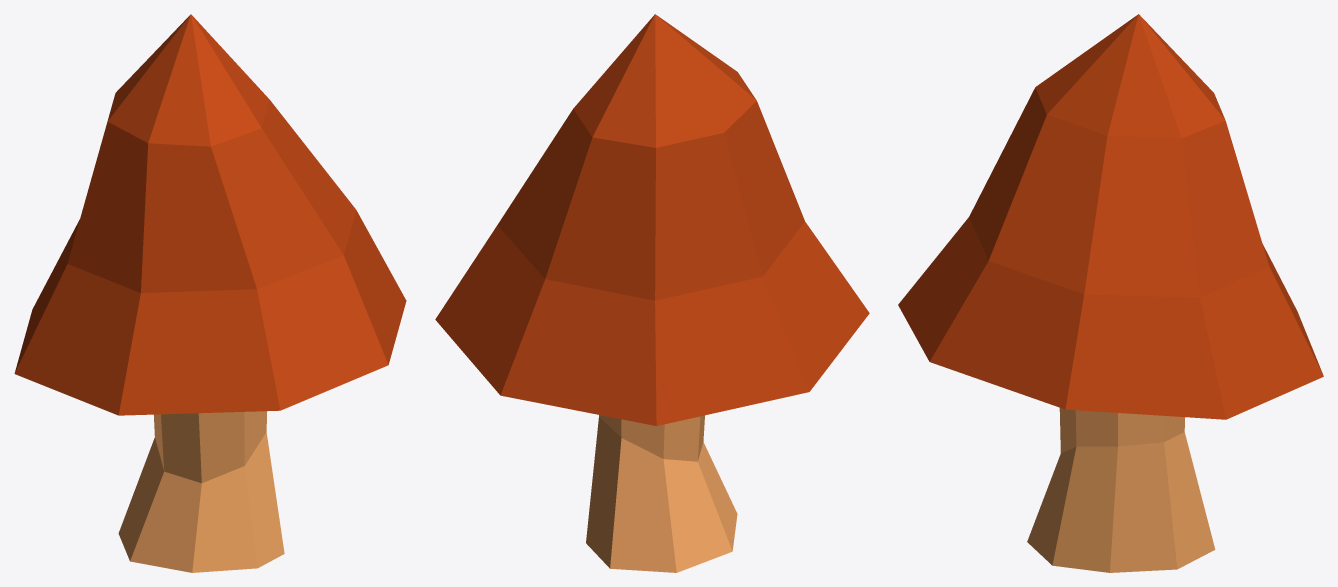
Rendered from mushwoom.obj.
3 views of the same model, side by side, from view 1: azimuth 30°, elevation 25°; view 2: azimuth 150°, elevation 25°; view 3: azimuth 270°, elevation 25° (orthographic).
Parts seen in each view (by area): view 1: Mushroom2; view 2: Mushroom2; view 3: Mushroom2.
Boxes of the visible parts, x1,y1,x2,y2 form: Mushroom2: [14, 14, 406, 572]; Mushroom2: [435, 14, 869, 572]; Mushroom2: [898, 14, 1323, 572].
Bounding box in the file's own units: 0.5566 × 0.8134 × 0.5899.
